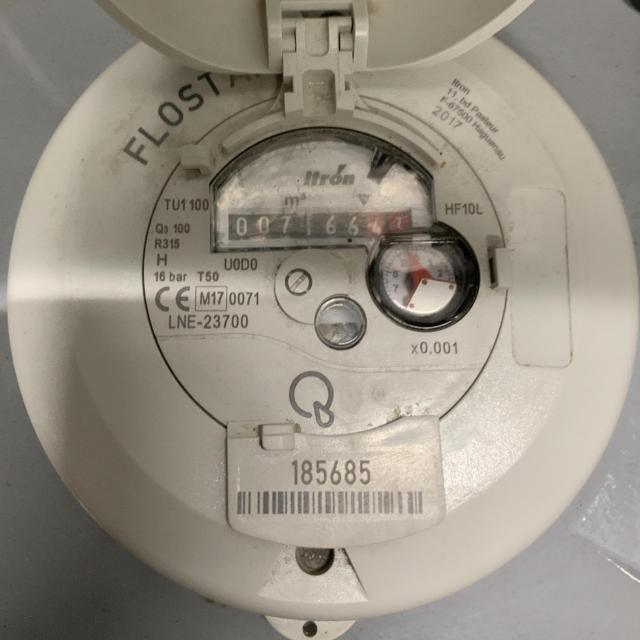gaz_meter: (140, 87, 507, 443)
indication: (226, 208, 418, 244)
